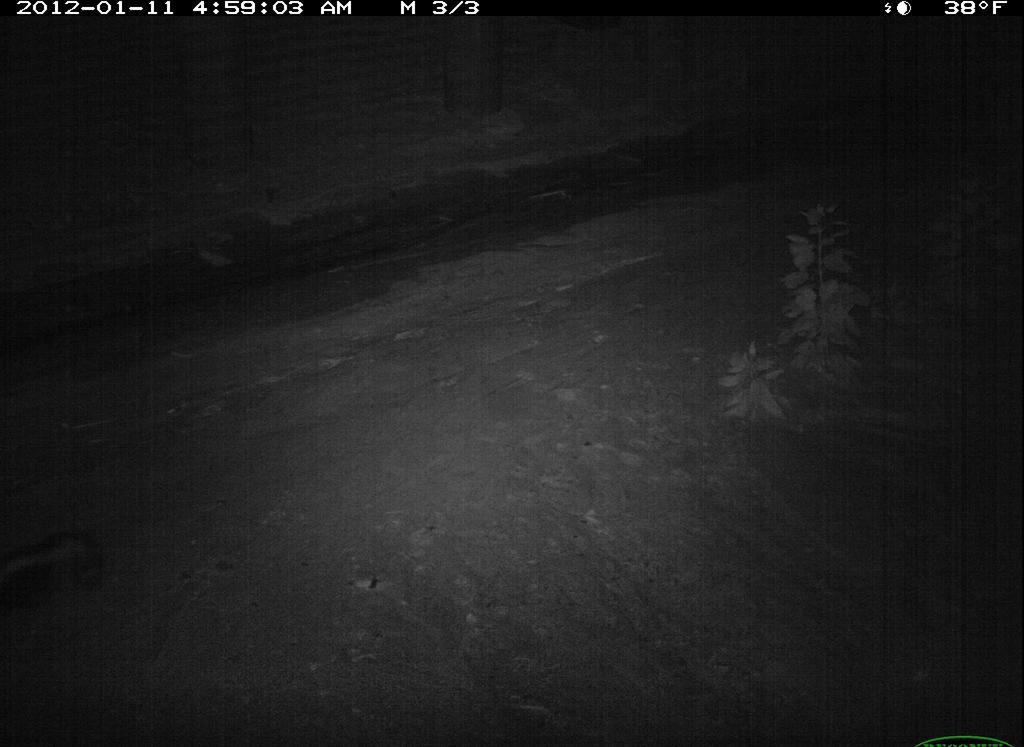skunk: (2, 519, 116, 610)
